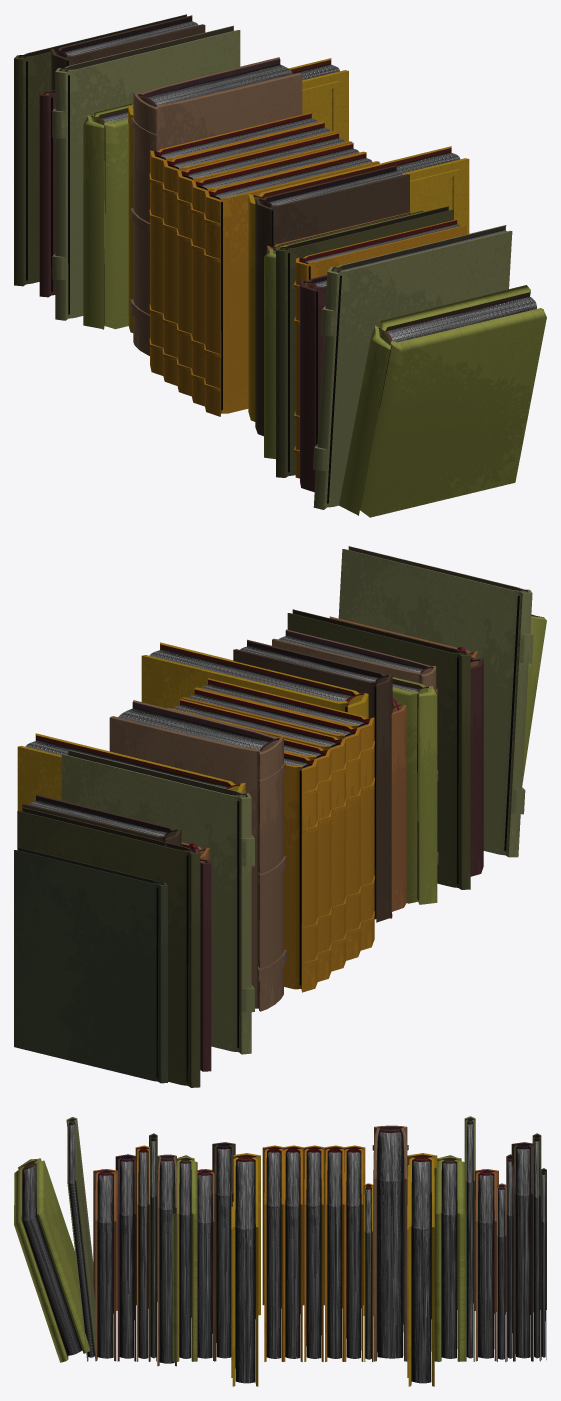
The model's file is Shelf5.fbx.
The picture shows the model from 3 angles, top to bottom: view 1: azimuth 30°, elevation 25°; view 2: azimuth 150°, elevation 25°; view 3: azimuth 270°, elevation 25°; orthographic projection. The views are drawn at different scales.
Visible parts, largest first — view 1: pCube11 (×3), pCube14 (×2), pCube67 (×2), pCube71, pCube68 (×2), pCube100, pCube12 (×2), pCube15 (×2), pCube69 (×2), pCube98, pCube97, pCube99 (+10 smaller); view 2: pCube14 (×2), pCube66, pCube67 (×2), pCube71 (×2), pCube12 (×2), pCube68 (×2), pCube11 (×2), pCube15, pCube69 (×2), pCube99, pCube98, pCube100 (+10 smaller); view 3: pCube11 (×3), pages14 (×2), pages17 (×3), pages13 (×2), pages15 (×3), pages8 (×2), pages11 (×2), pCube12 (×2), pages9 (×2), pCube72 (×3), pages16 (×2), pCube71 (×2) (+20 smaller).
Boxes of the visible parts, x1,y1,x2,y2 form: pCube11 (×3): (83,102,546,517); pCube14 (×2): (52,25,512,509); pCube67 (×2): (14,14,453,477); pCube71: (130,57,302,355); pCube68 (×2): (51,15,409,436); pCube100: (204,152,379,416); pCube12 (×2): (128,58,469,421); pCube15 (×2): (149,112,466,478); pCube69 (×2): (39,89,327,492); pCube98: (177,132,352,396); pCube97: (162,122,337,385); pCube99: (191,142,366,406); pCube14 (×2): (61,546,533,1054); pCube66: (14,847,167,1083); pCube67 (×2): (17,609,470,1087); pCube71 (×2): (109,629,438,1011); pCube12 (×2): (17,642,368,811); pCube68 (×2): (22,639,392,922); pCube11 (×2): (392,614,546,904); pCube15: (284,752,318,992); pCube69 (×2): (200,657,483,1071); pCube99: (180,688,361,960); pCube98: (168,699,346,971); pCube100: (195,678,374,950); pCube11 (×3): (14,1155,465,1362); pages14 (×2): (235,1161,431,1383); pages17 (×3): (97,1175,493,1358); pages13 (×2): (159,1132,402,1363); pages15 (×3): (22,1163,456,1358); pages8 (×2): (216,1149,530,1358); pages11 (×2): (138,1152,360,1358); pCube12 (×2): (231,1153,437,1386); pages9 (×2): (119,1161,512,1358); pCube72 (×3): (93,1169,498,1361); pages16 (×2): (68,1124,473,1358); pCube71 (×2): (157,1125,408,1366).
Size of the model in its own units: 1.09 by 1.07 by 2.7.
